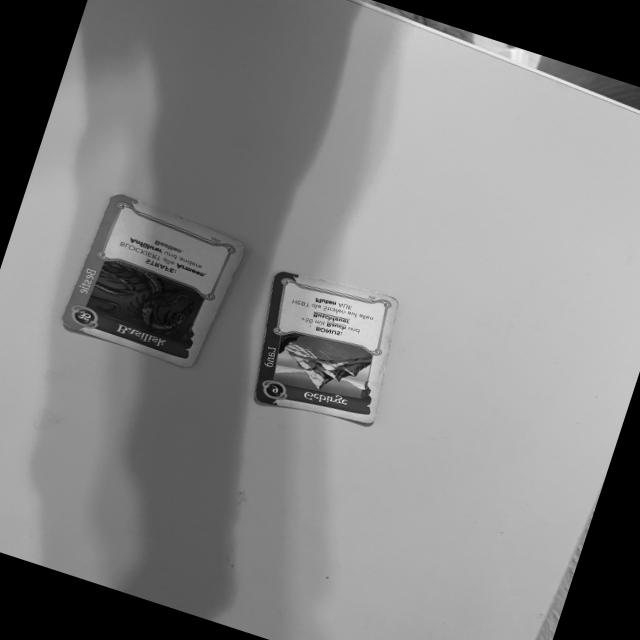Basilisk: (62, 192, 249, 369)
Mountain: (256, 272, 398, 425)
